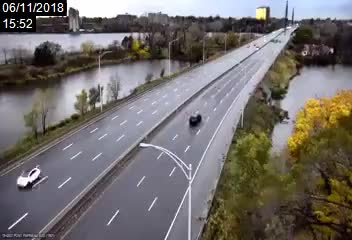personal_car: (16, 166, 42, 188), (188, 112, 201, 126)
